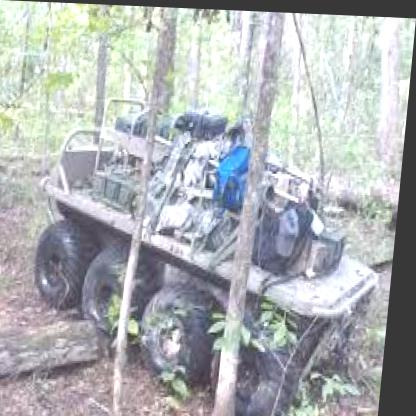UGV: (25, 93, 396, 415)
